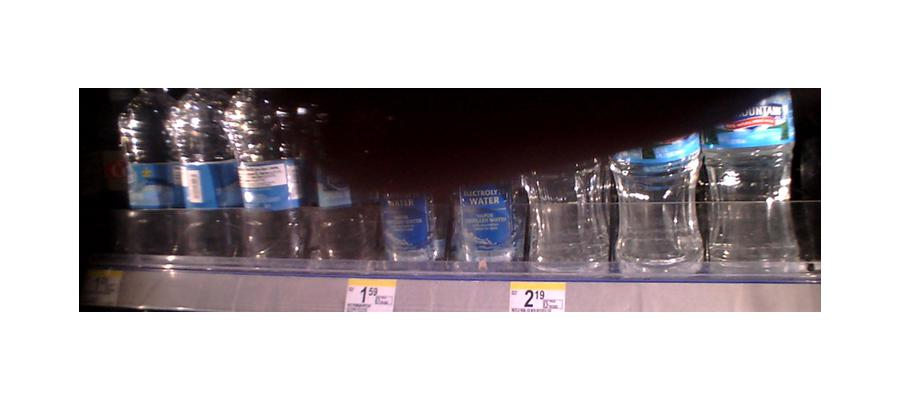bottle: (700, 99, 803, 272), (230, 98, 310, 262), (615, 130, 706, 274), (307, 121, 382, 270), (526, 155, 619, 275), (174, 91, 235, 259), (120, 81, 174, 258), (452, 181, 522, 271), (378, 183, 441, 269)
